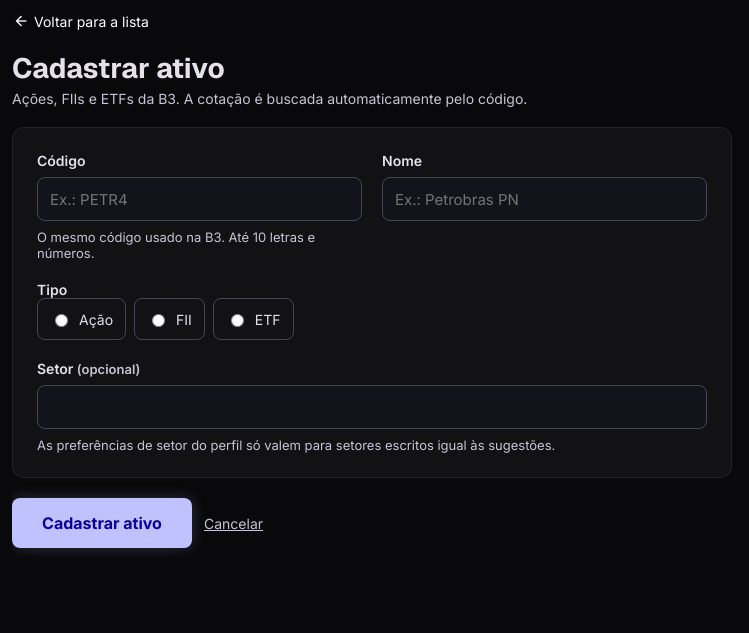
FormularioAtivoComponent › falha inesperada deve mostrar um aviso geral e manter o que foi digitado
The image size is (749, 633).
In the field labelled "Código": {"x": 200, "y": 199} [37,177,362,221], type "VALE3"
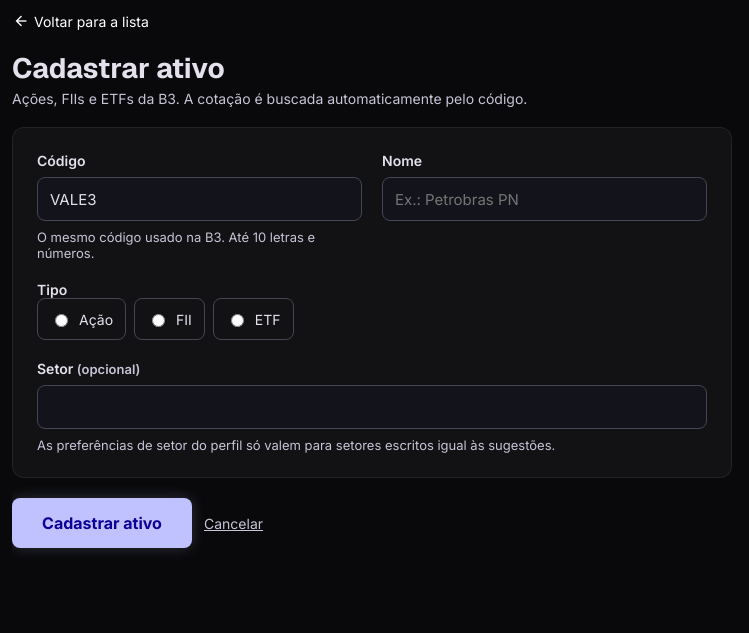
In the field labelled "Nome": {"x": 544, "y": 199} [382,177,707,221], type "Vale ON"
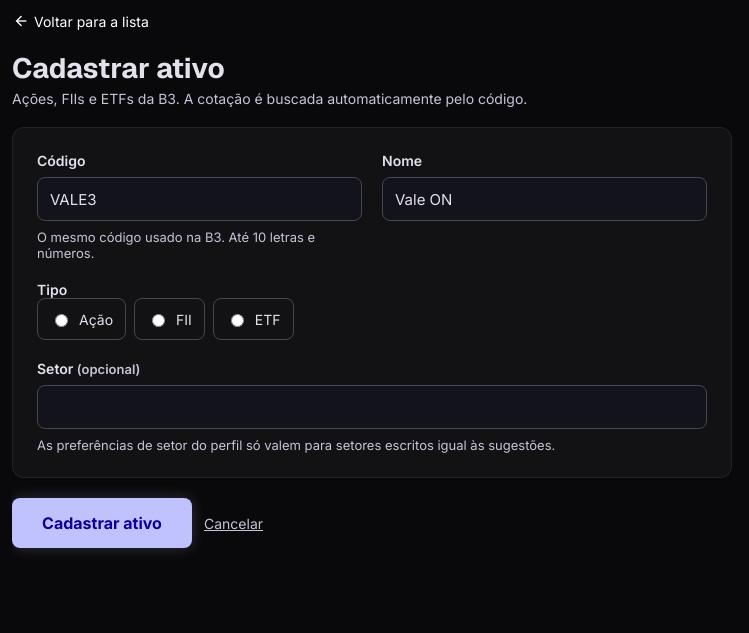
Click the radio button labelled "Ação": {"x": 62, "y": 320} [55,314,68,327]
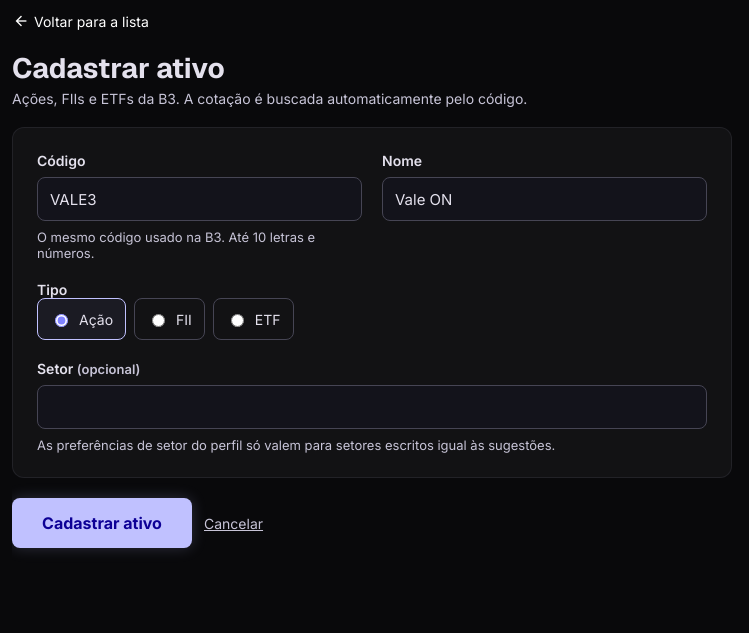
Submit the form
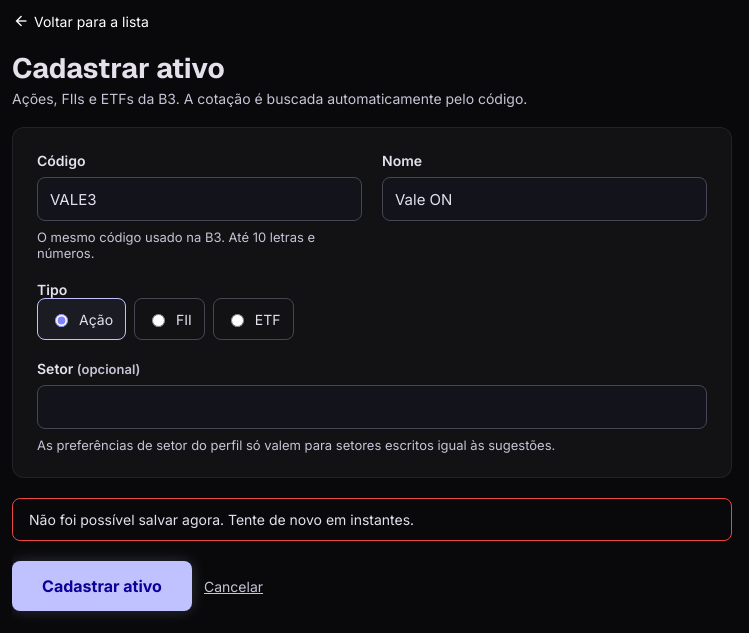
Check: the message with class "formulario__erro-geral" shows "Não foi possível salvar agora", box [29,511,414,528]
